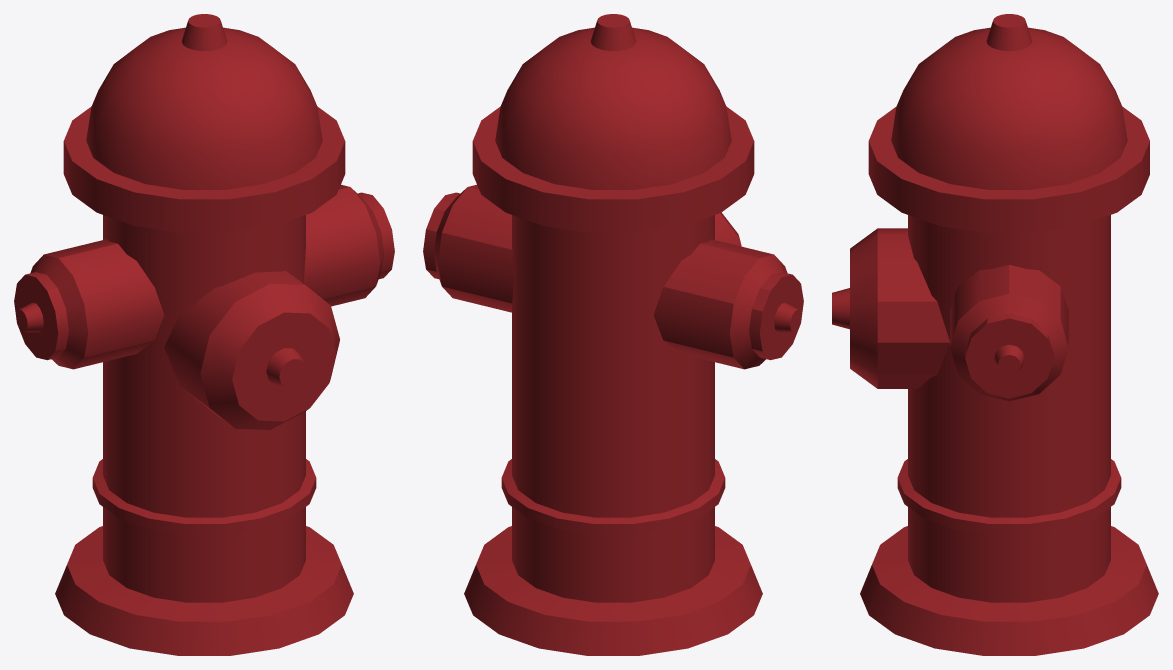
Rendered from quaternius-zombie-apocalypse-kit-march-firehydrant.glb.
The picture shows the model from 3 angles, left to right: view 1: azimuth 30°, elevation 25°; view 2: azimuth 150°, elevation 25°; view 3: azimuth 270°, elevation 25°; orthographic projection.
Parts seen in each view (by area): view 1: FireHydrant; view 2: FireHydrant; view 3: FireHydrant.
Part boxes in pixels (box(x1,y1,x2,y2)): FireHydrant: box(14, 14, 394, 655); FireHydrant: box(423, 14, 803, 655); FireHydrant: box(832, 14, 1158, 655).
Size of the model in its own units: 0.5151 by 0.7724 by 0.3992.
1 material, 1 textured.
